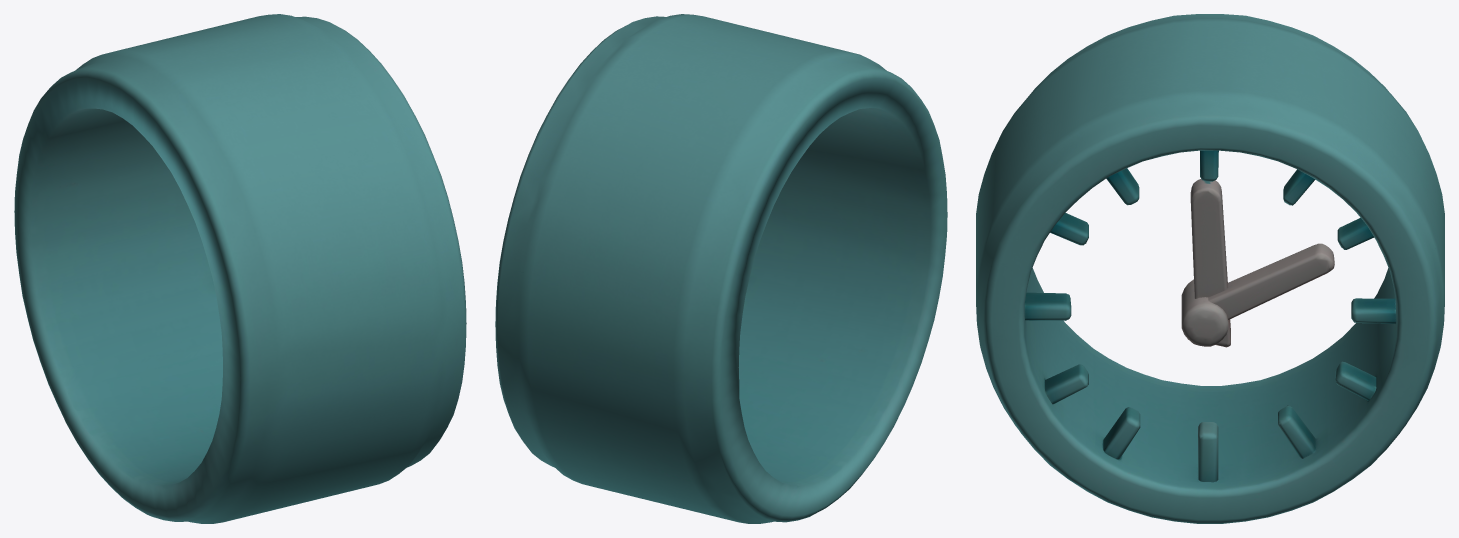
File: icon-clock.glb
3 views of the same model, side by side, from view 1: azimuth 30°, elevation 25°; view 2: azimuth 150°, elevation 25°; view 3: azimuth 270°, elevation 25° (orthographic). The views are drawn at different scales.
Visible parts, largest first — view 1: tripo_node_kodyurd-model-32____________________; view 2: tripo_node_kodyurd-model-32____________________; view 3: tripo_node_kodyurd-model-32____________________.
Boxes of the visible parts, bbox=[...] form: tripo_node_kodyurd-model-32____________________: bbox=[14, 14, 466, 523]; tripo_node_kodyurd-model-32____________________: bbox=[495, 14, 947, 523]; tripo_node_kodyurd-model-32____________________: bbox=[976, 14, 1444, 523].
Bounding box in the file's own units: 0.5605 × 0.998 × 0.998.
Materials: 1 (1 with a texture image).
